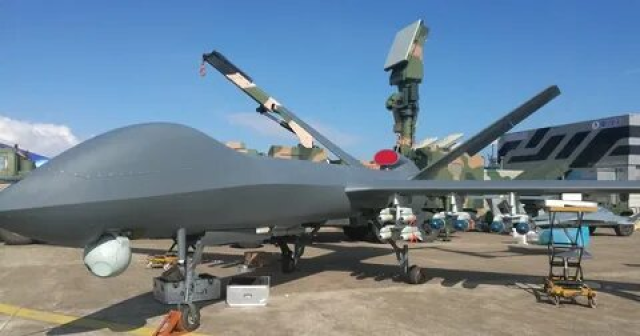military drone: (0, 83, 640, 331)
